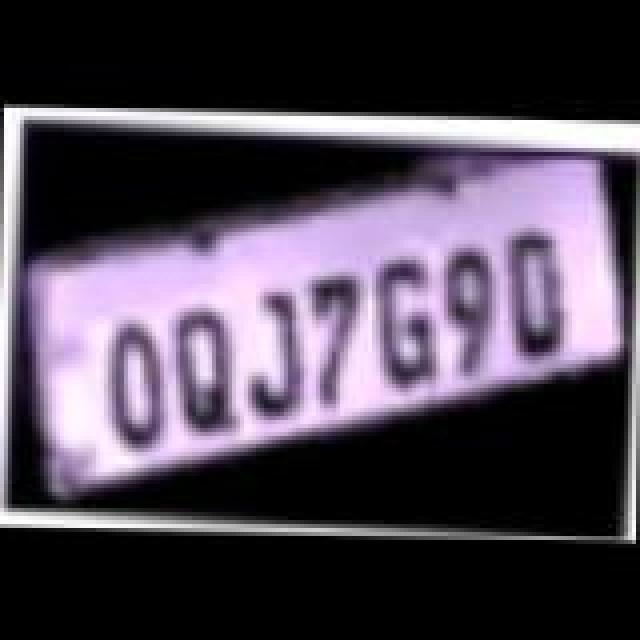7: (280, 266, 400, 410)
9: (416, 242, 528, 374)
D: (480, 228, 592, 364)
G: (350, 254, 466, 394)
J: (218, 286, 334, 422)
O: (78, 316, 190, 452)
Q: (148, 304, 268, 440)
